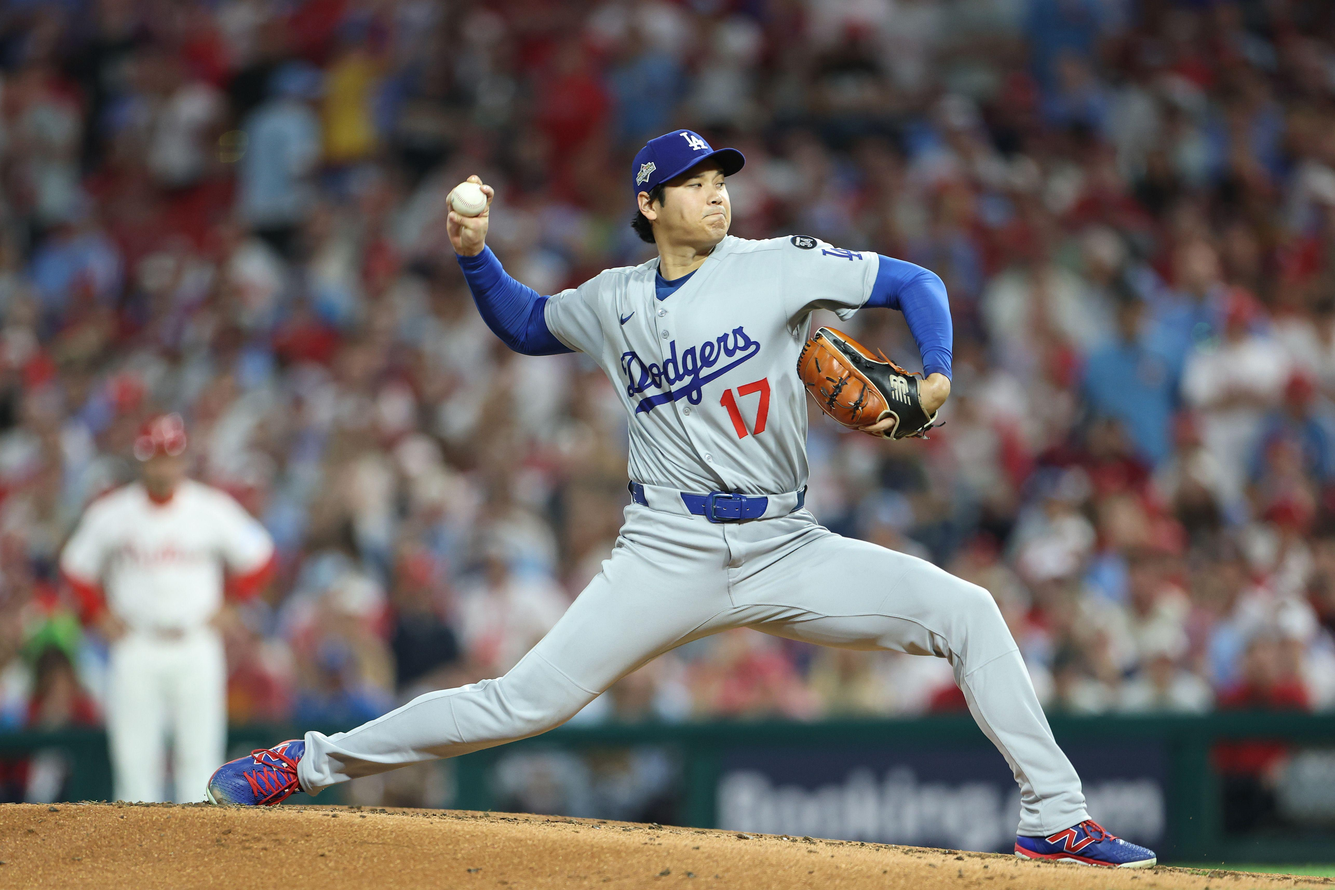baseball: (450, 179, 487, 217)
